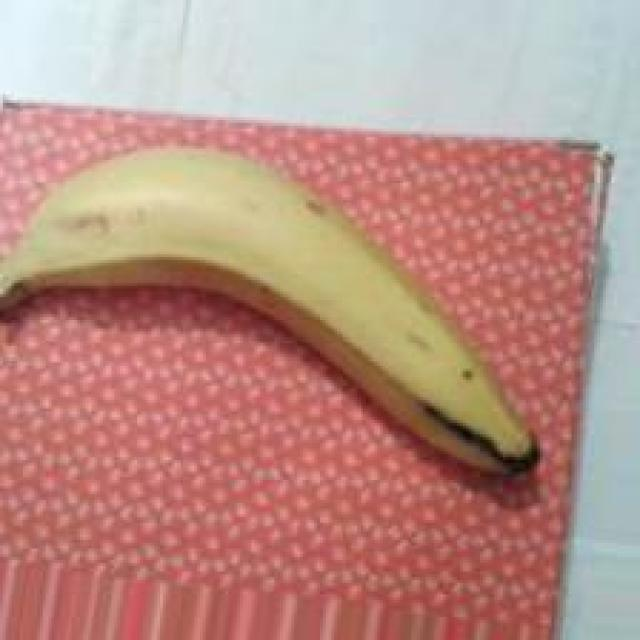banana: (22, 126, 565, 541)
